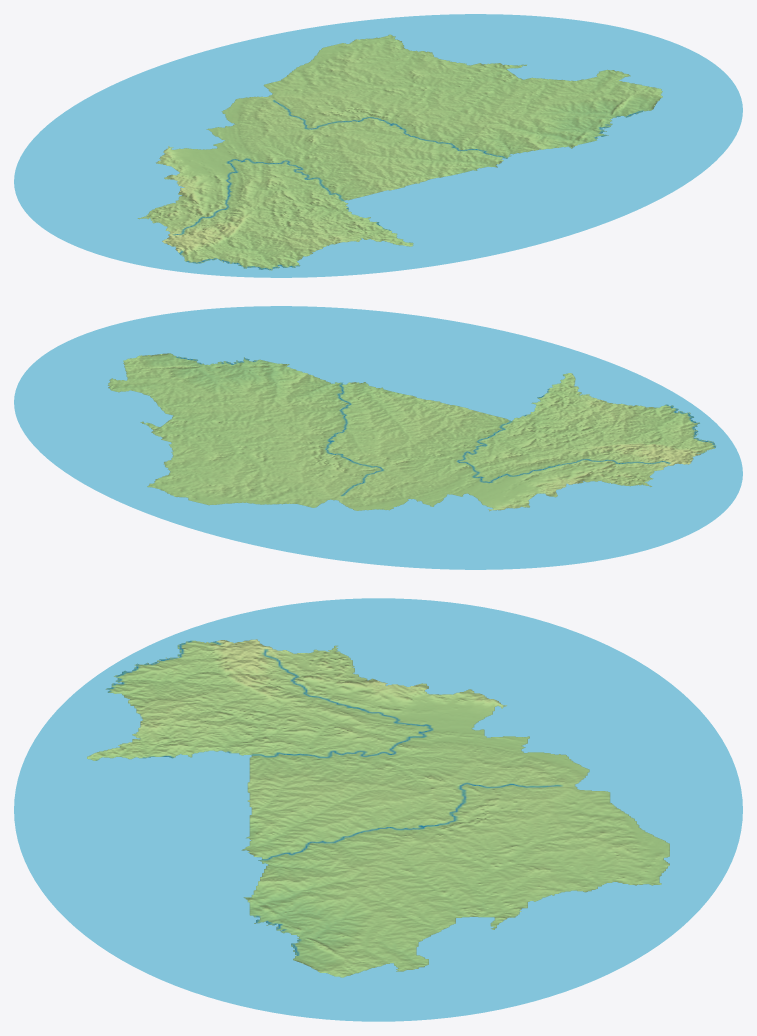
The model's file is BFA-terrain.glb.
3 views of the same model, one above another, from view 1: azimuth 30°, elevation 25°; view 2: azimuth 150°, elevation 25°; view 3: azimuth 270°, elevation 25° (orthographic). The views are drawn at different scales.
Visible parts, largest first — view 1: Relevo com hidrografia; view 2: Relevo com hidrografia; view 3: Relevo com hidrografia.
Part boxes in pixels (box(x1,y1,x2,y2)): Relevo com hidrografia: box(14, 14, 742, 277); Relevo com hidrografia: box(14, 306, 742, 569); Relevo com hidrografia: box(14, 598, 742, 1021).
Size of the model in its own units: 2.02 by 0.0119 by 1.47.
Materials: 2 (1 with a texture image).
